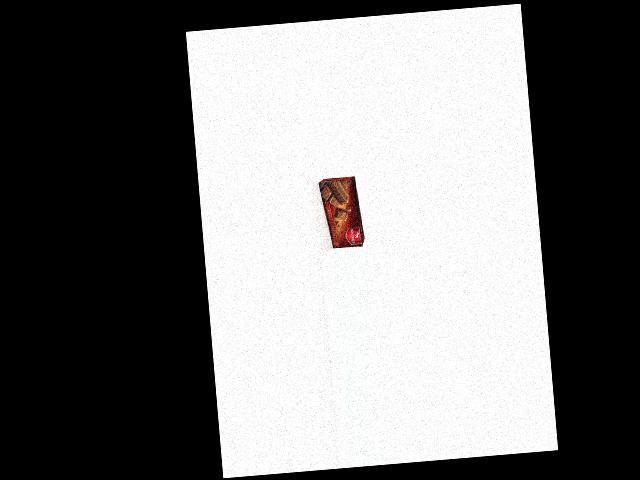chocolate: (317, 176, 365, 250)
